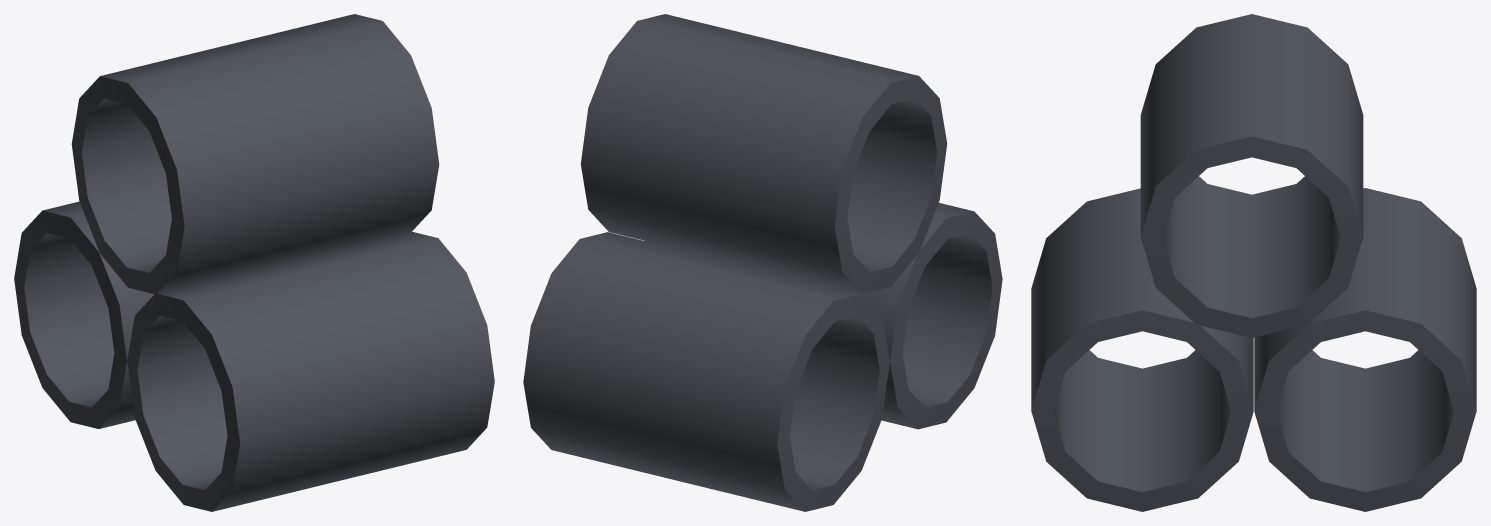
File: Pipes_2.fbx
3 renders of one model, left to right at view 1: azimuth 30°, elevation 25°; view 2: azimuth 150°, elevation 25°; view 3: azimuth 270°, elevation 25°, orthographic.
Visible parts, largest first — view 1: Pipes_2; view 2: Pipes_2; view 3: Pipes_2.
Part boxes in pixels (box(x1,y1,x2,y2)): Pipes_2: box(14, 14, 494, 511); Pipes_2: box(523, 14, 1002, 511); Pipes_2: box(1031, 14, 1476, 511).
Bounding box in the file's own units: 101 × 143 × 154.
